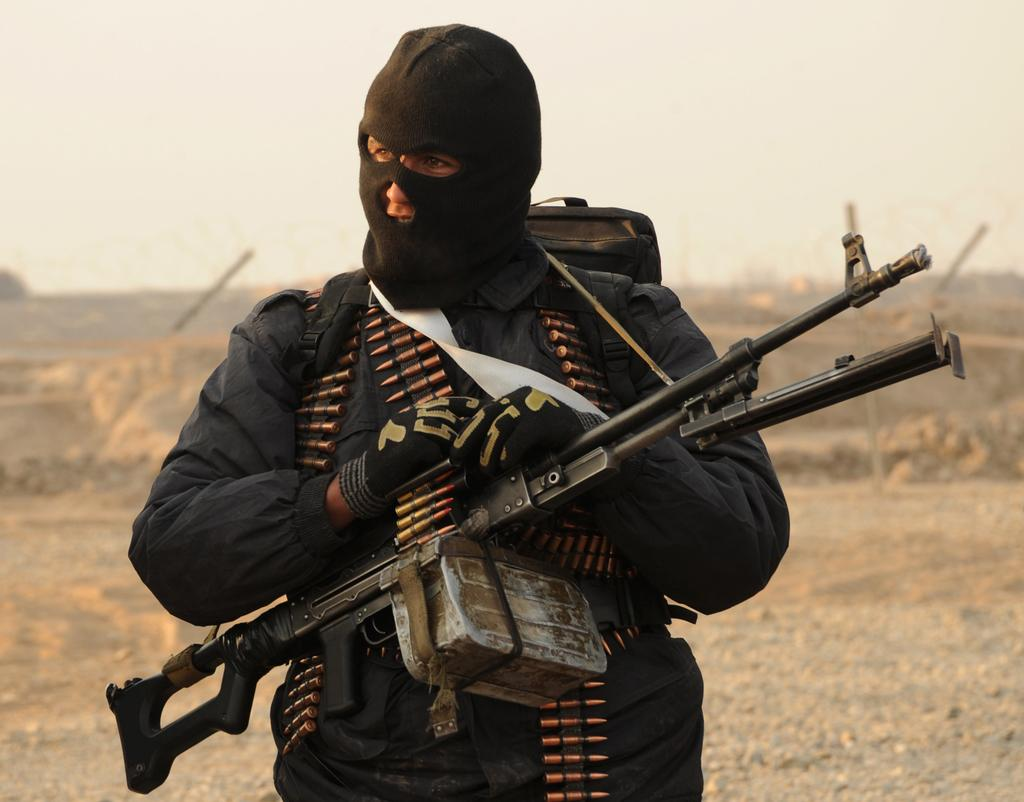Rifle: (135, 215, 988, 699)
